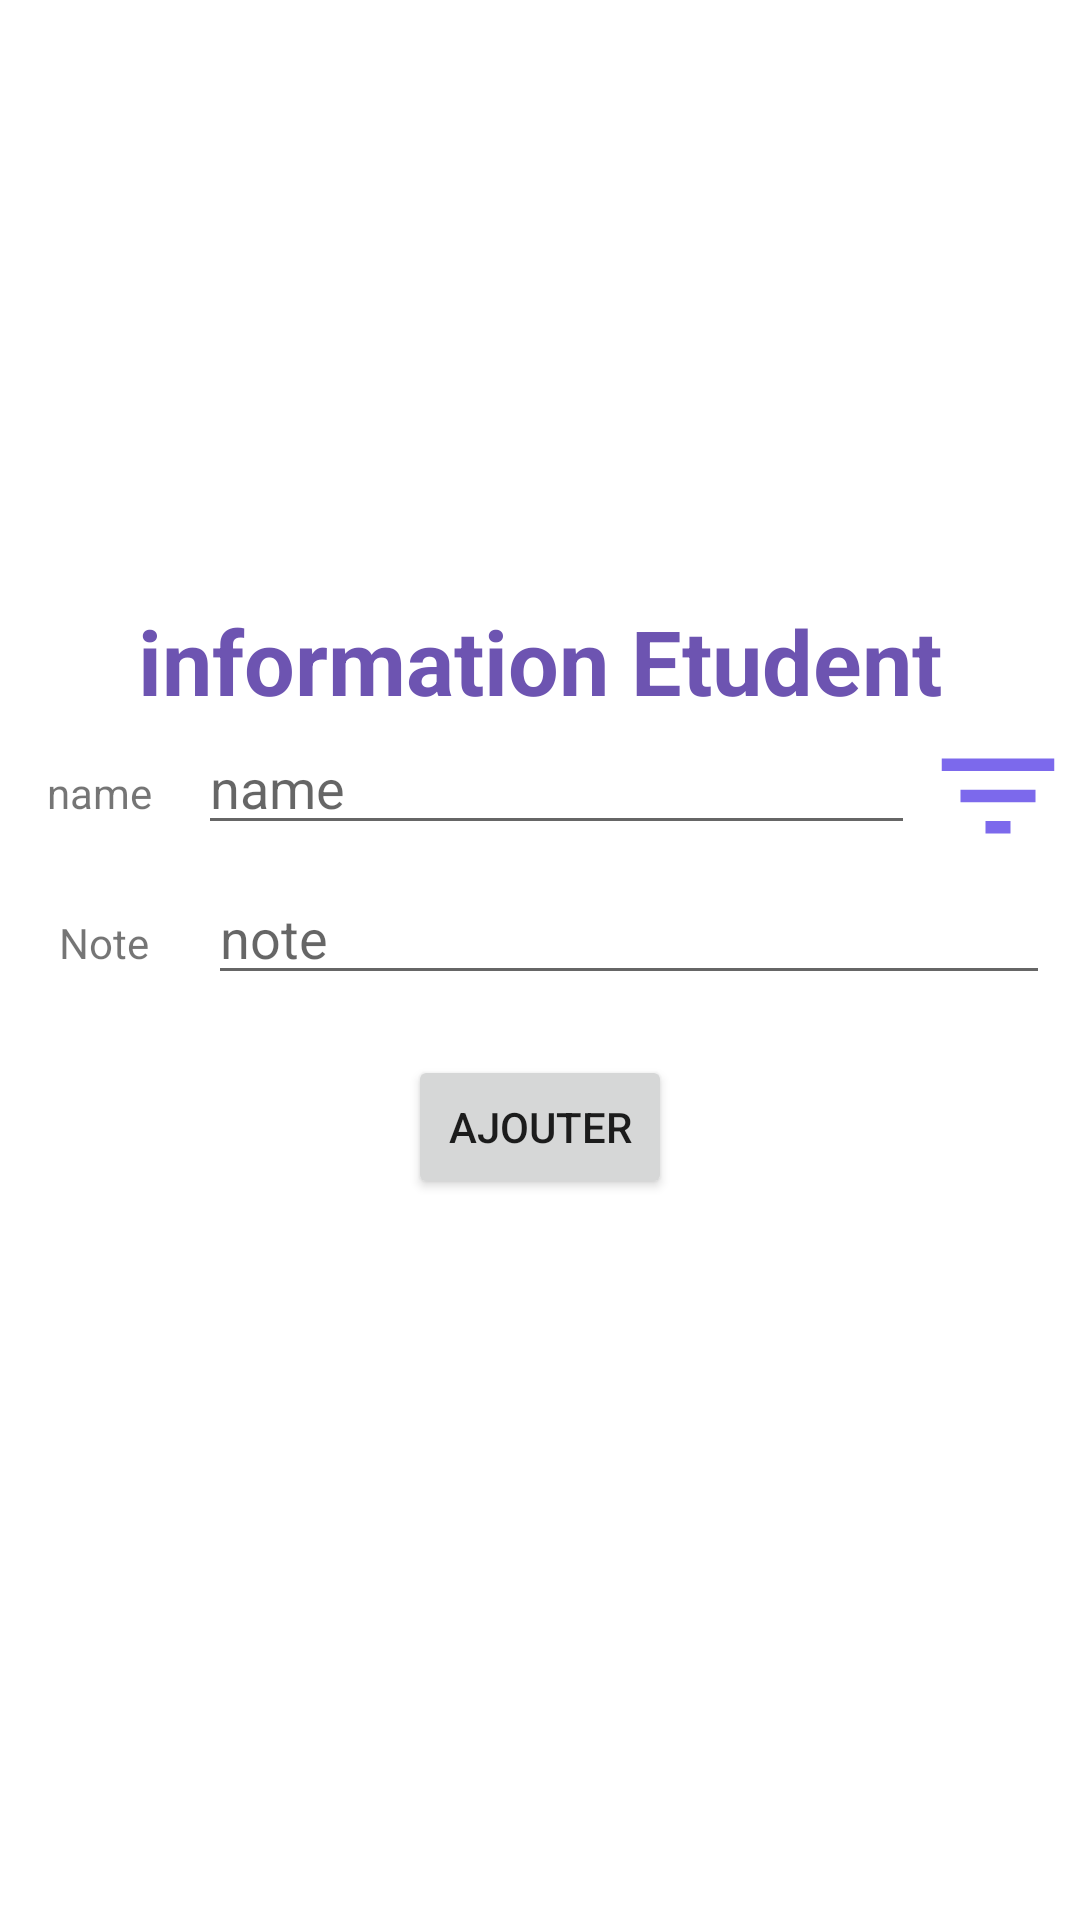

Screen size 1080×1920. Icon name, then its center in pixels as [x,y]:
filter list: [998,796]
